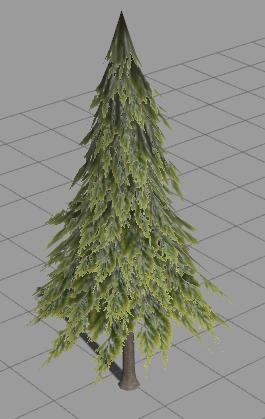tree_gazebo: (33, 13, 225, 389)
